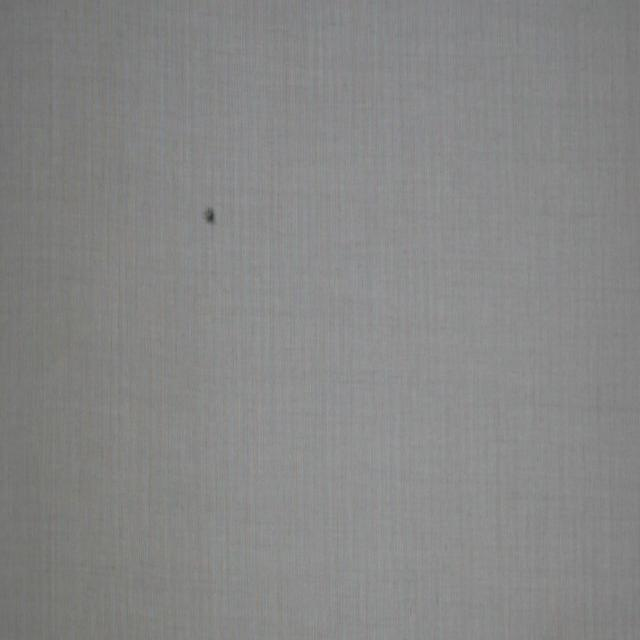dirty: (204, 206, 218, 227)
